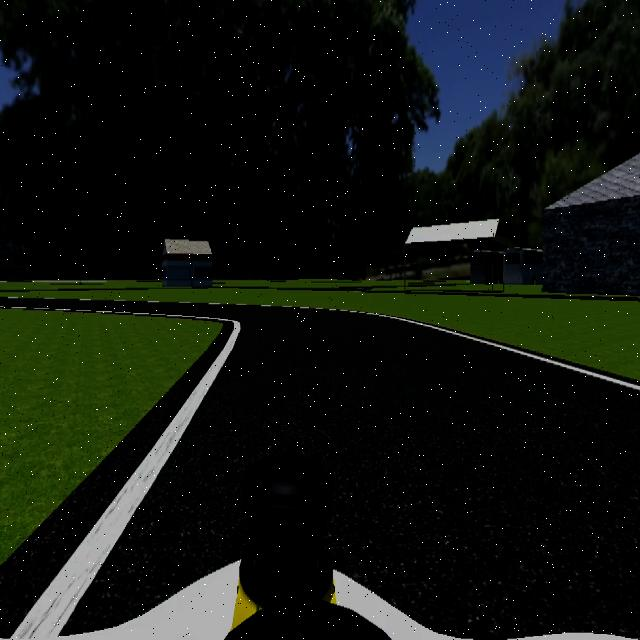road: (65, 309, 640, 637)
solid_line: (13, 324, 240, 639), (349, 311, 640, 394)
